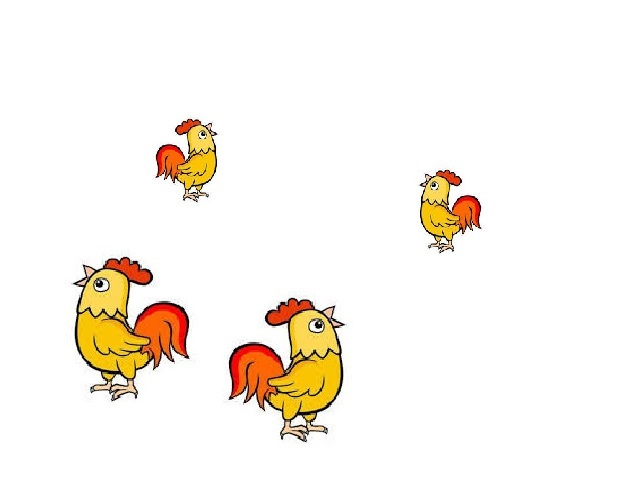crown: (102, 260, 159, 283), (265, 299, 313, 322), (439, 165, 462, 185), (173, 119, 201, 133)
eyes: (90, 276, 108, 292), (308, 318, 324, 331), (196, 127, 208, 140), (432, 181, 443, 189)
feet: (93, 377, 137, 404), (281, 420, 326, 445), (177, 183, 206, 203), (429, 239, 460, 257)
tail: (131, 303, 191, 368), (230, 344, 285, 406), (456, 195, 482, 235), (153, 142, 182, 176)
